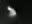person: (7, 6, 18, 20)
